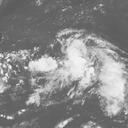cyclone: (29, 29, 113, 102)
